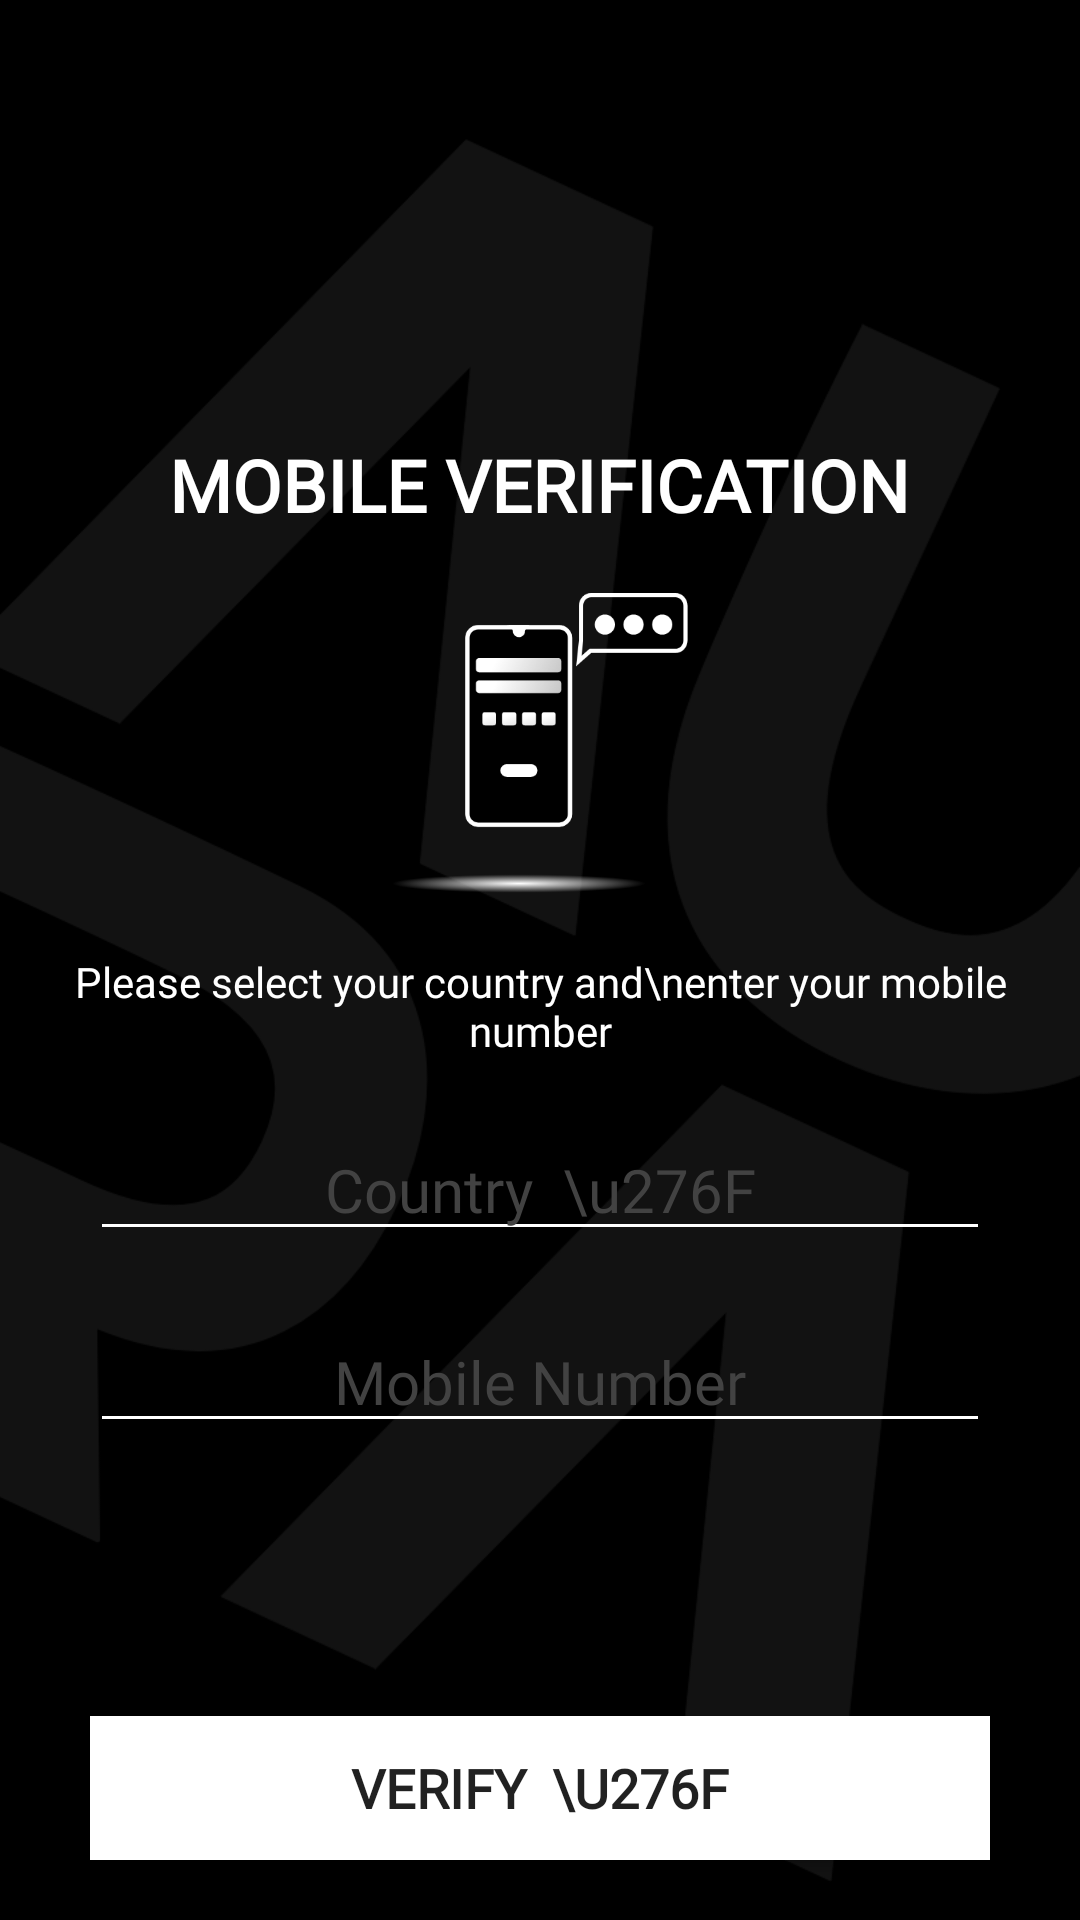

Named icons in this screenshot (1080w x 1920h) and their centers, [x,y]:
otp: [546,742]
